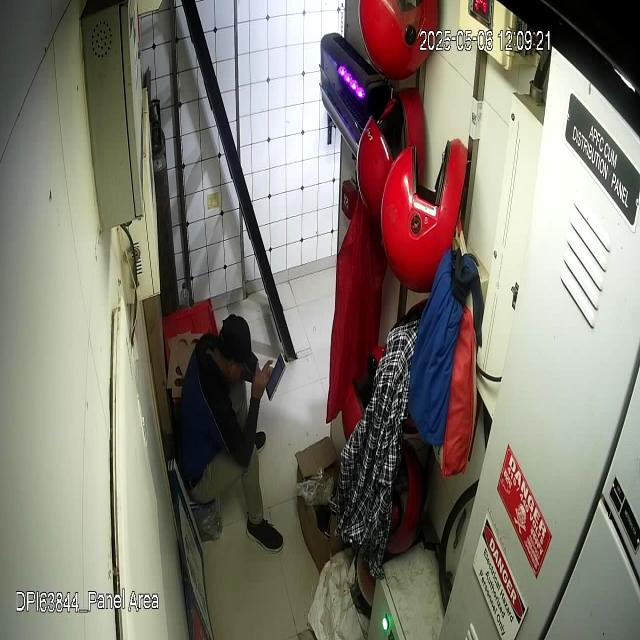helmet: (381, 134, 469, 298)
